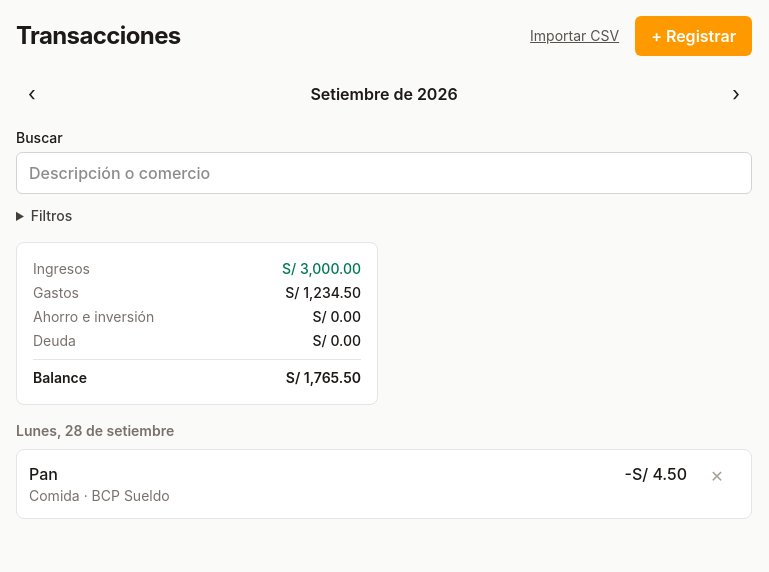
Test: TransactionsScreen › says so when a delete from the list fails
Click the button named "Borrar «Pan»": (717, 476) [695,454,739,498]
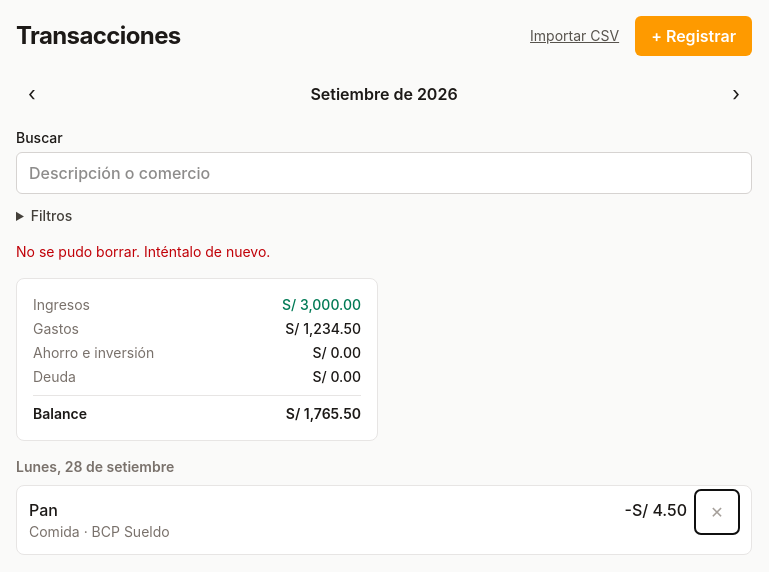
Result: the message shows "No se pudo borrar." at [16,243,270,260]
